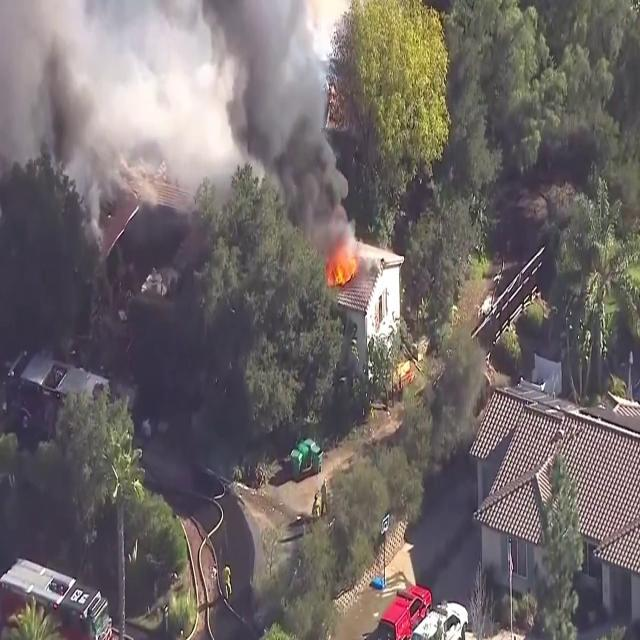Fire: (326, 245, 358, 288)
Smoke: (1, 0, 210, 235), (206, 0, 358, 252)
